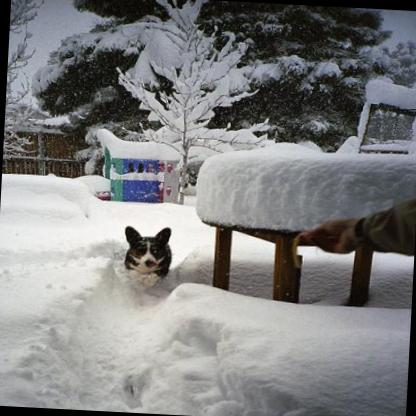Cardigan: (117, 222, 170, 288)
